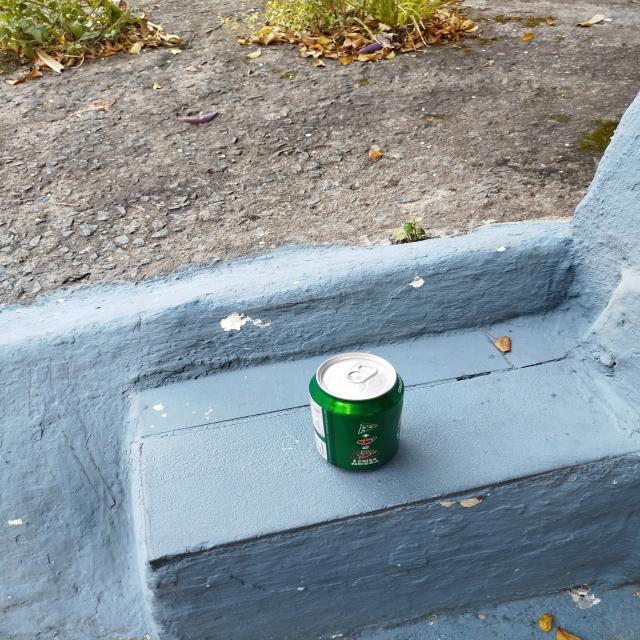Guarana: (308, 351, 409, 475)
